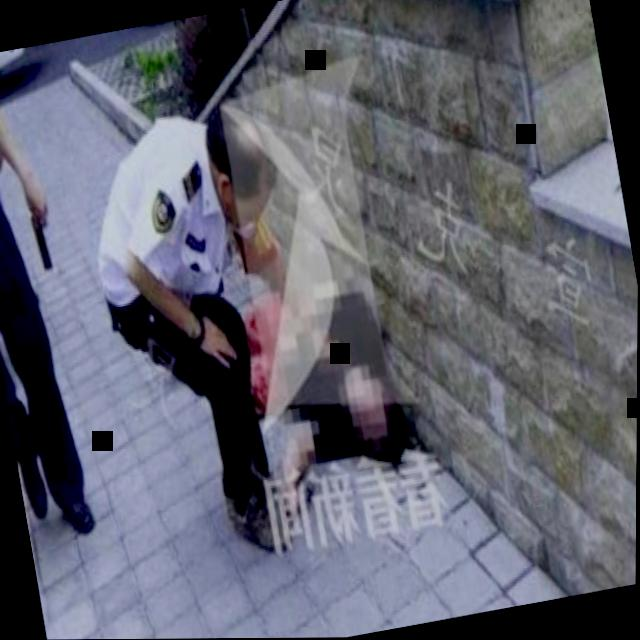Fall-Detected: (185, 228, 433, 523)
